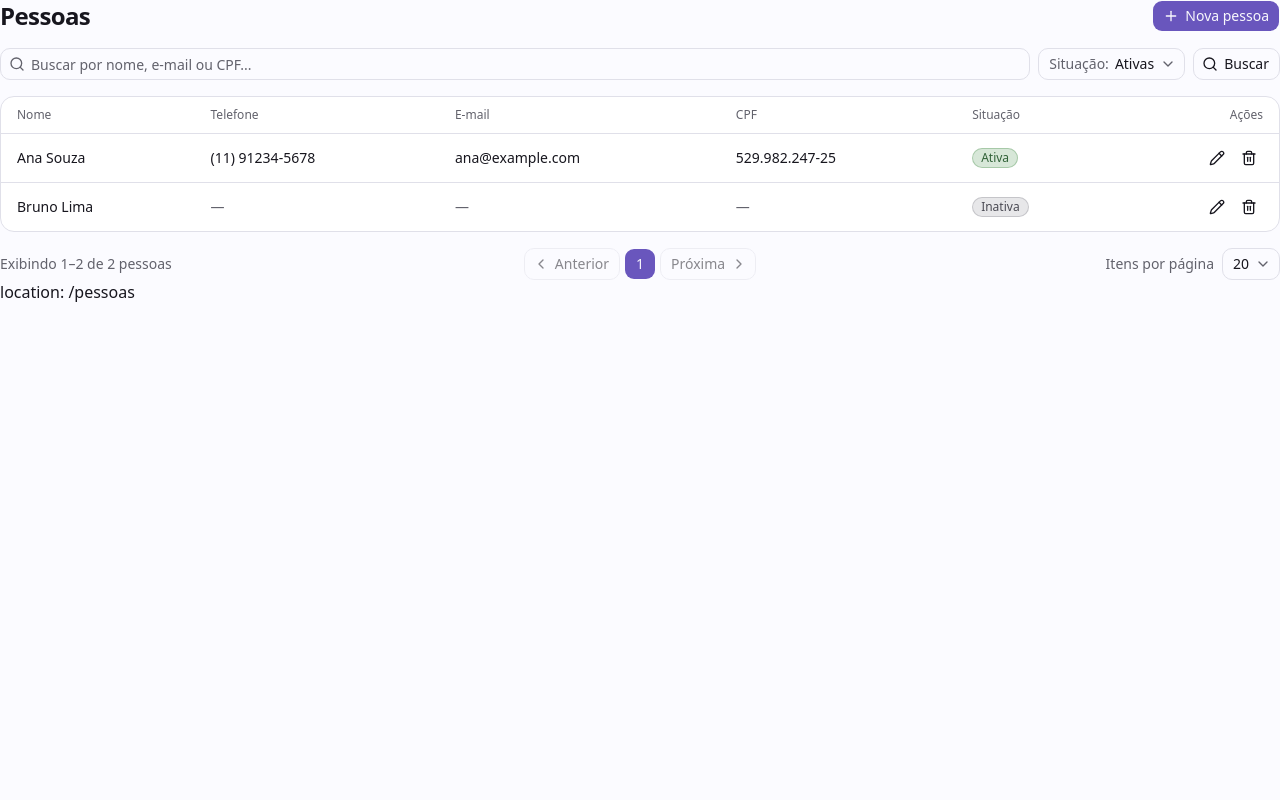
Scenario: ClientDeletePage › shows the backend reason verbatim and keeps the person when appointments block the deletion
Check: the link "Ana Souza" is shown, box [17,148,85,167]
Click the link named "Excluir Ana Souza".
click(1249, 158)  # box [1241,150,1257,166]
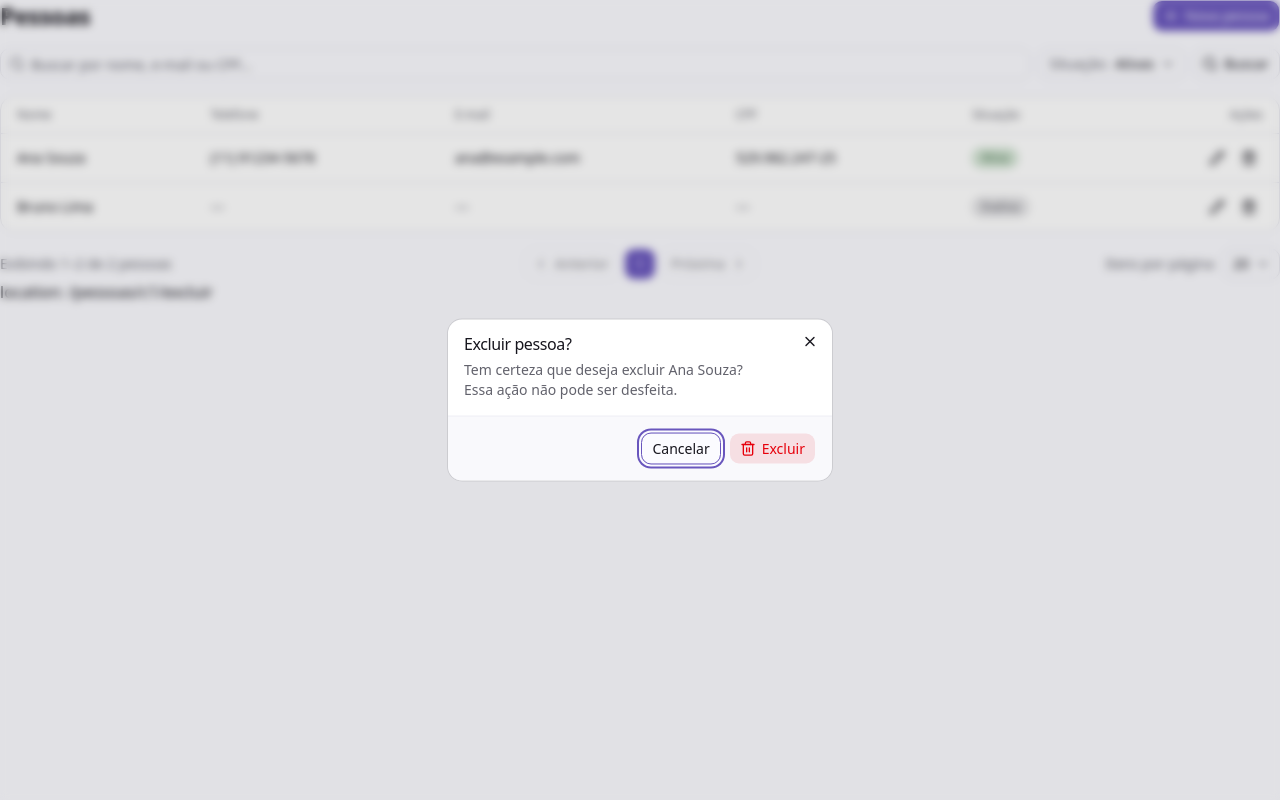
Check: the text "Tem certeza que deseja excluir Ana Souza?" is shown, box [464,360,743,378]
Click the button "Excluir".
click(772, 448)  # box [729,432,816,464]
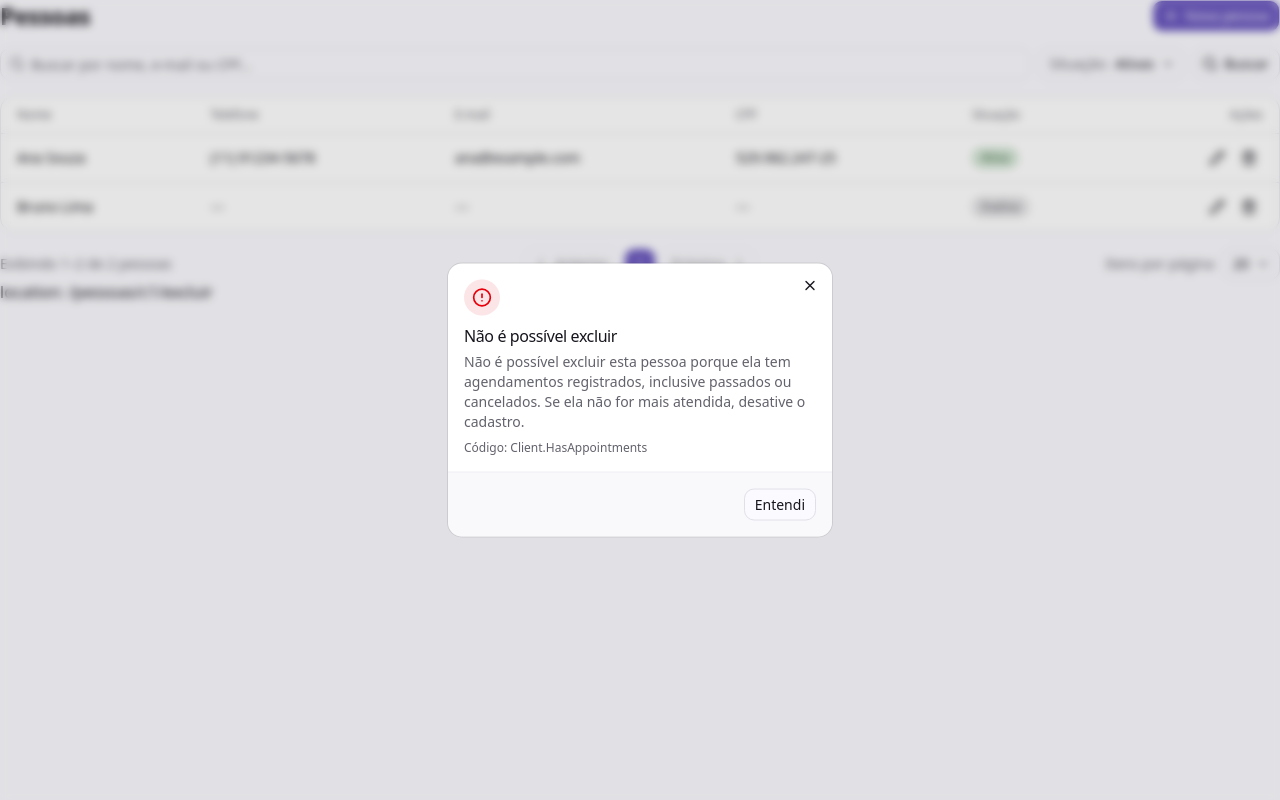
Check: the link "Ana Souza" is shown, box [17,148,85,167]
Check: the heading "Não é possível excluir" is shown, box [464,324,617,346]
Check: the text "Não é possível excluir esta pessoa porque ela tem agendamentos registrados, inclusive passados ou cancelados. Se ela não" is shown, box [464,352,805,430]
